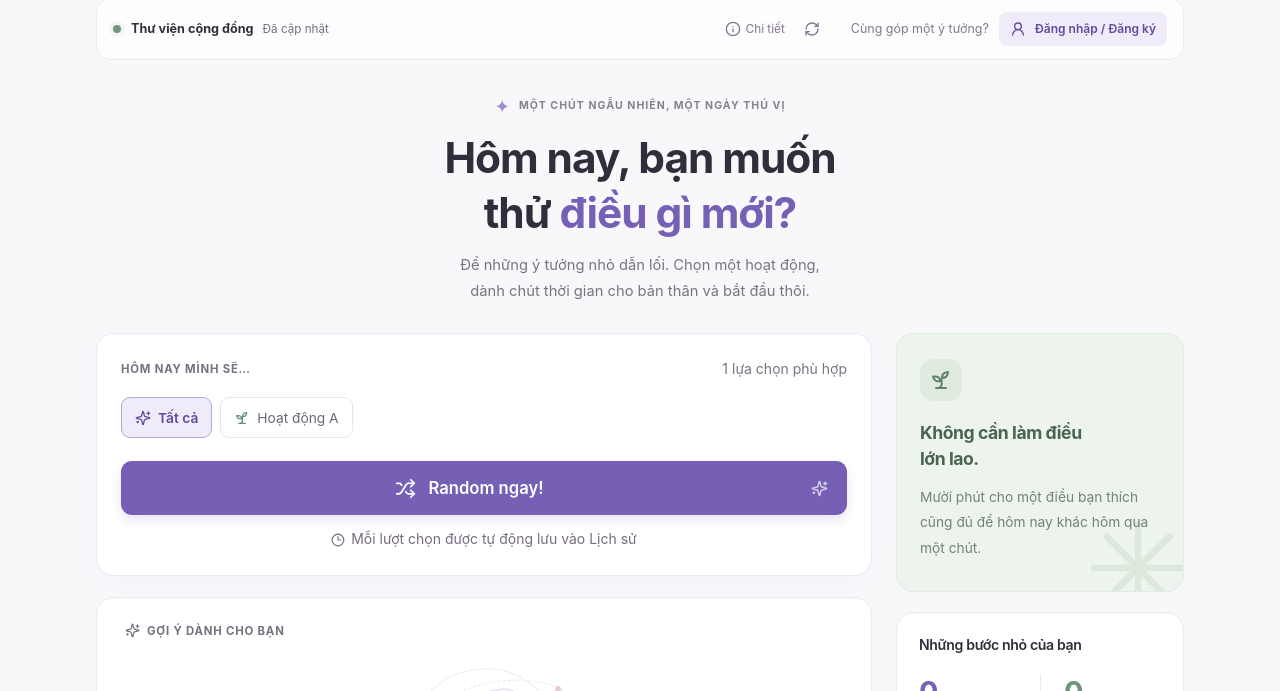
Random cho khách và mẫu chỉ đọc › lỗi tải lại không thay thư viện cộng đồng đã tải bằng mẫu khác
Click the button named "Tải lại thư viện".
click(812, 29)  # box left=797, top=11, right=827, bottom=47
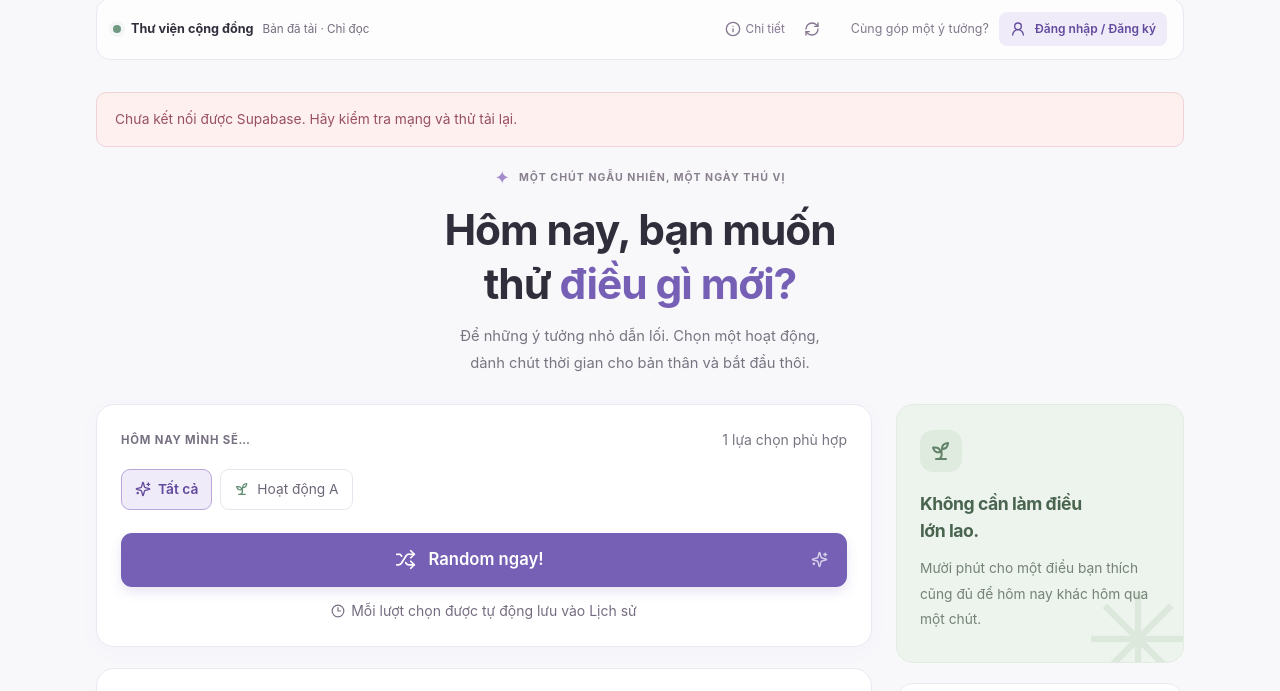
Expected: the text "Bản đã tải · Chỉ đọc" is shown, left=262, top=20, right=369, bottom=39
Click the button "Random ngay!".
click(484, 560)  # box left=121, top=533, right=847, bottom=587
(page scrolled)
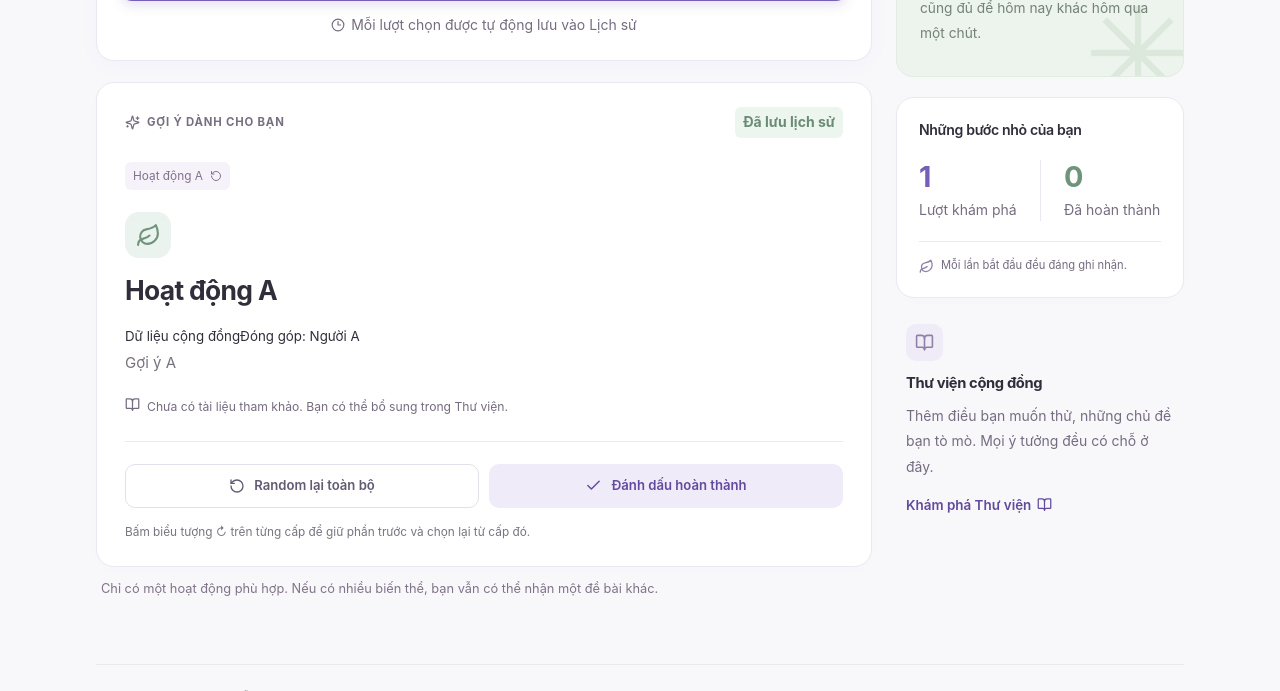
Expected: the heading "Hoạt động A" is shown, left=125, top=274, right=277, bottom=306
